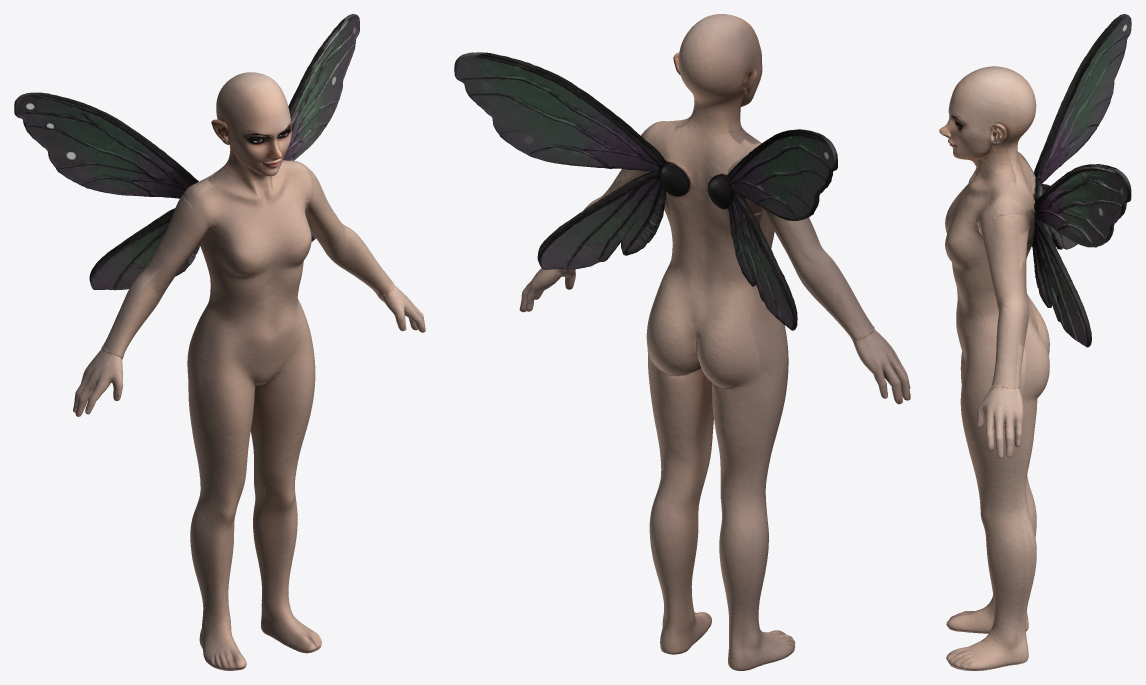
The model's file is dark-fairy-worker-noclothes.glb.
The picture shows the model from 3 angles, left to right: view 1: azimuth 30°, elevation 25°; view 2: azimuth 150°, elevation 25°; view 3: azimuth 270°, elevation 25°; orthographic projection. The views are drawn at different scales.
Parts seen in each view (by area): view 1: tmpiz58xwe5.obj; view 2: tmpiz58xwe5.obj; view 3: tmpiz58xwe5.obj.
Part boxes in pixels (x1,y1,x2,y2): tmpiz58xwe5.obj: [14, 14, 425, 670]; tmpiz58xwe5.obj: [454, 14, 910, 670]; tmpiz58xwe5.obj: [939, 14, 1131, 670].
Bounding box in the file's own units: 1 × 1.56 × 0.4736.
1 material, 1 textured.
